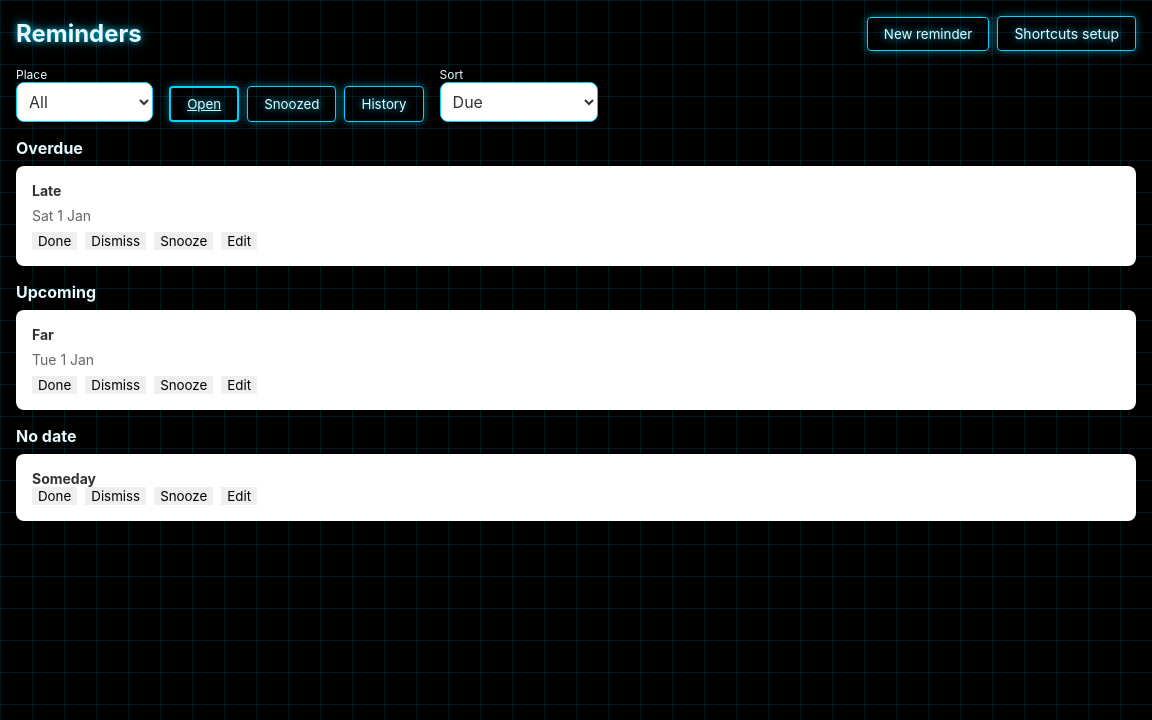
Test: RemindersPage › date groups › Place sort shows a flat list with no headings
Select "Place" in the dropdown labelled "Sort" at [519, 102], box [440,82,598,122]
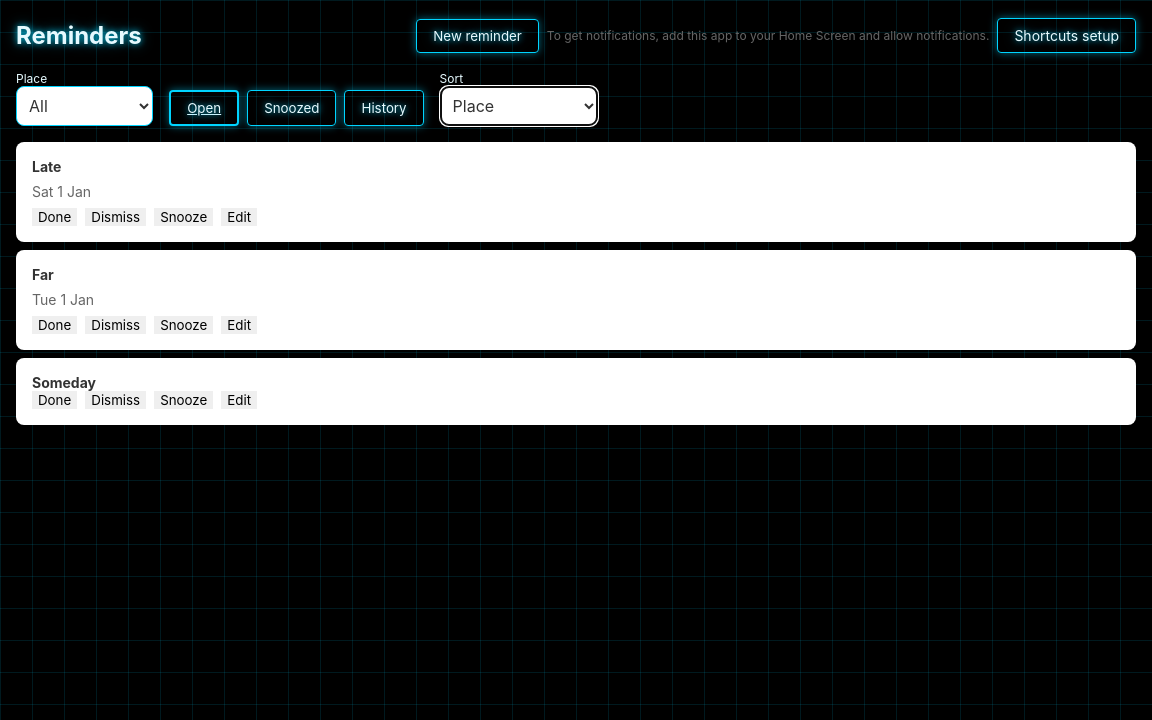
Expected: the number of lists with class "reminder-list" is 1, [16,142,1136,425]
